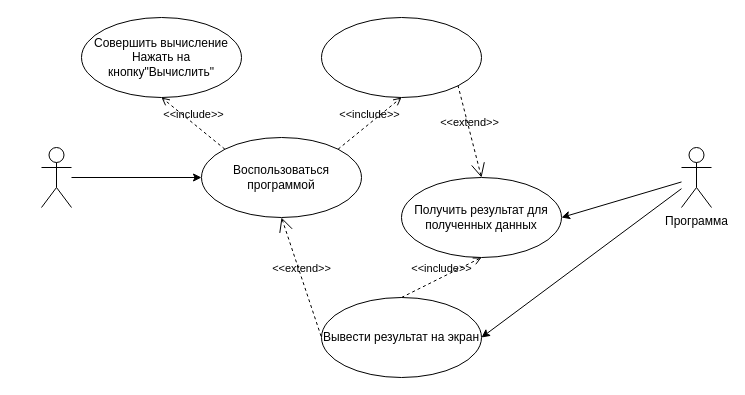
Some shapes in this 745 by 395 pixel diagram are drawn without their labels. The centre of each missing label's shape, as x and y in pixels:
"Ввести данные для вычисления" belongs at point (401, 57).
"Пользователь" belongs at point (56, 177).
